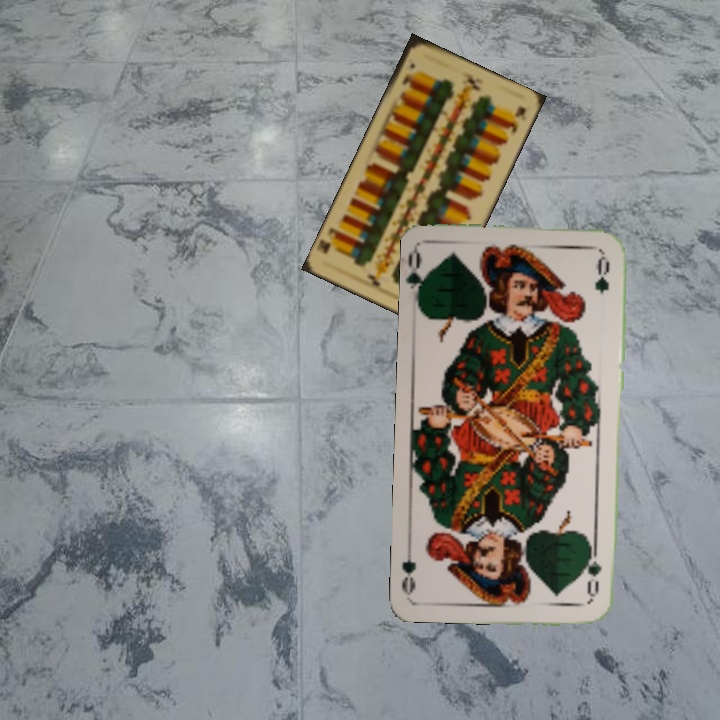E10: (398, 59, 417, 90)
GO: (406, 246, 434, 306), (583, 542, 604, 601)
